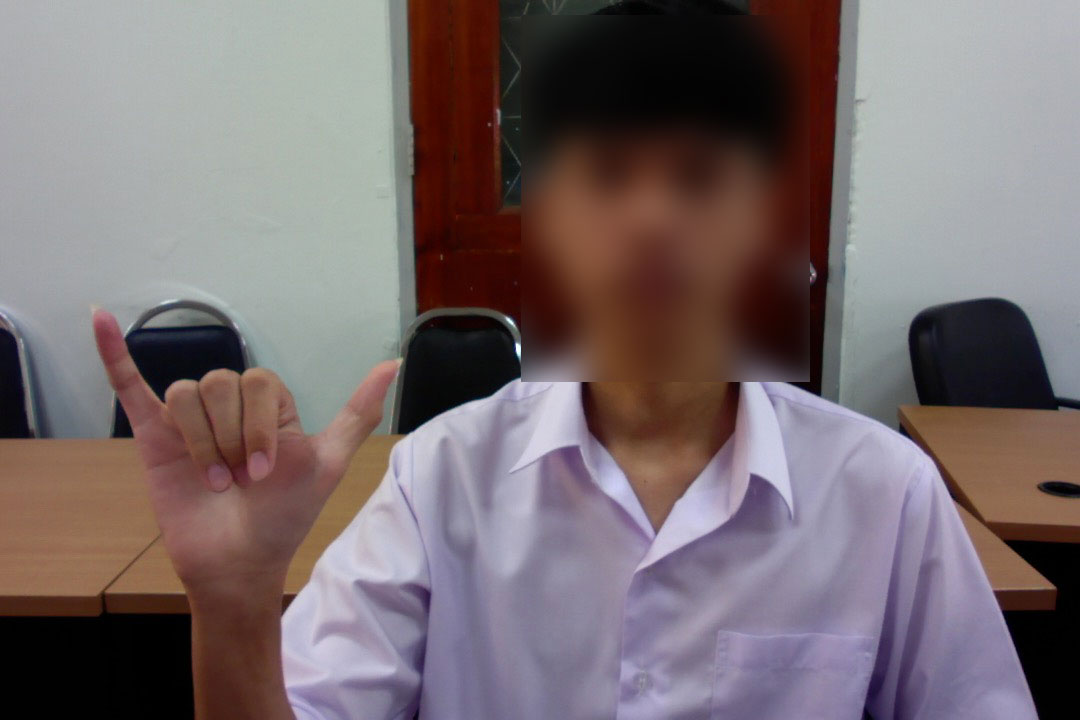yor: (82, 301, 414, 607)
